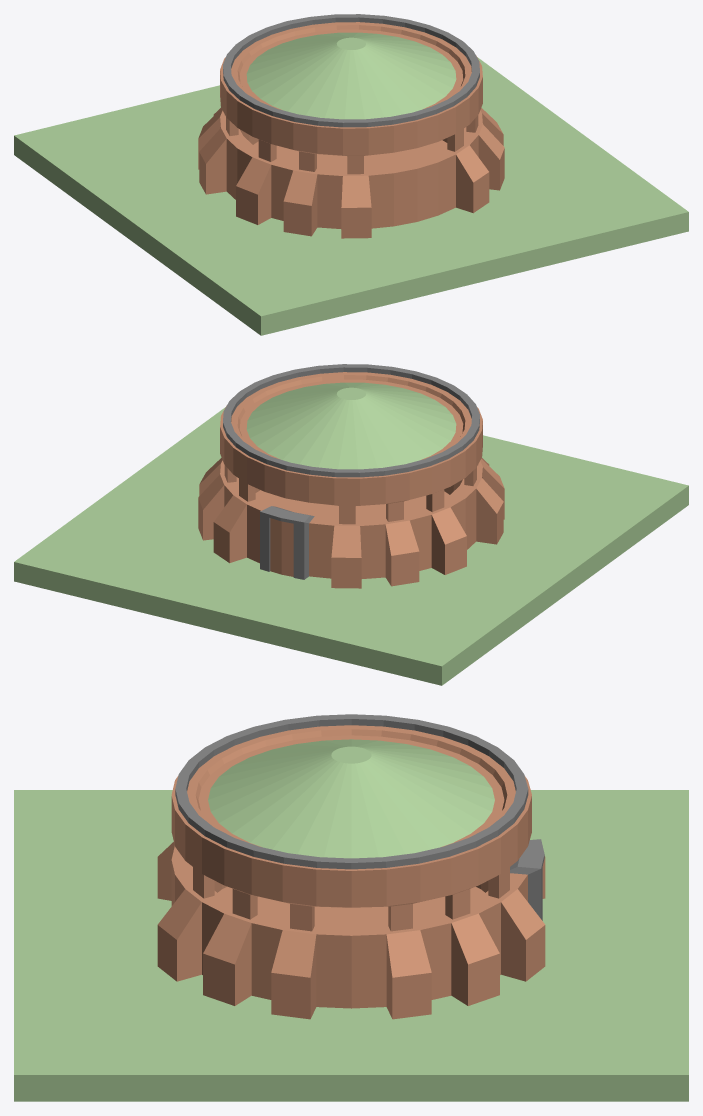
Rendered from Concept Model Granary.fbx.
The picture shows the model from 3 angles, top to bottom: view 1: azimuth 30°, elevation 25°; view 2: azimuth 150°, elevation 25°; view 3: azimuth 270°, elevation 25°; orthographic projection. The views are drawn at different scales.
Parts seen in each view (by area): view 1: Cube, Cylinder; view 2: Cube, Cylinder; view 3: Cube, Cylinder.
Boxes of the visible parts, x1,y1,x2,y2 form: Cube: (14, 57, 688, 335); Cylinder: (198, 14, 504, 238); Cube: (14, 407, 688, 685); Cylinder: (198, 364, 504, 588); Cube: (14, 790, 688, 1101); Cylinder: (157, 714, 545, 1019).
Bounding box in the file's own units: 1562 × 594 × 1562.
